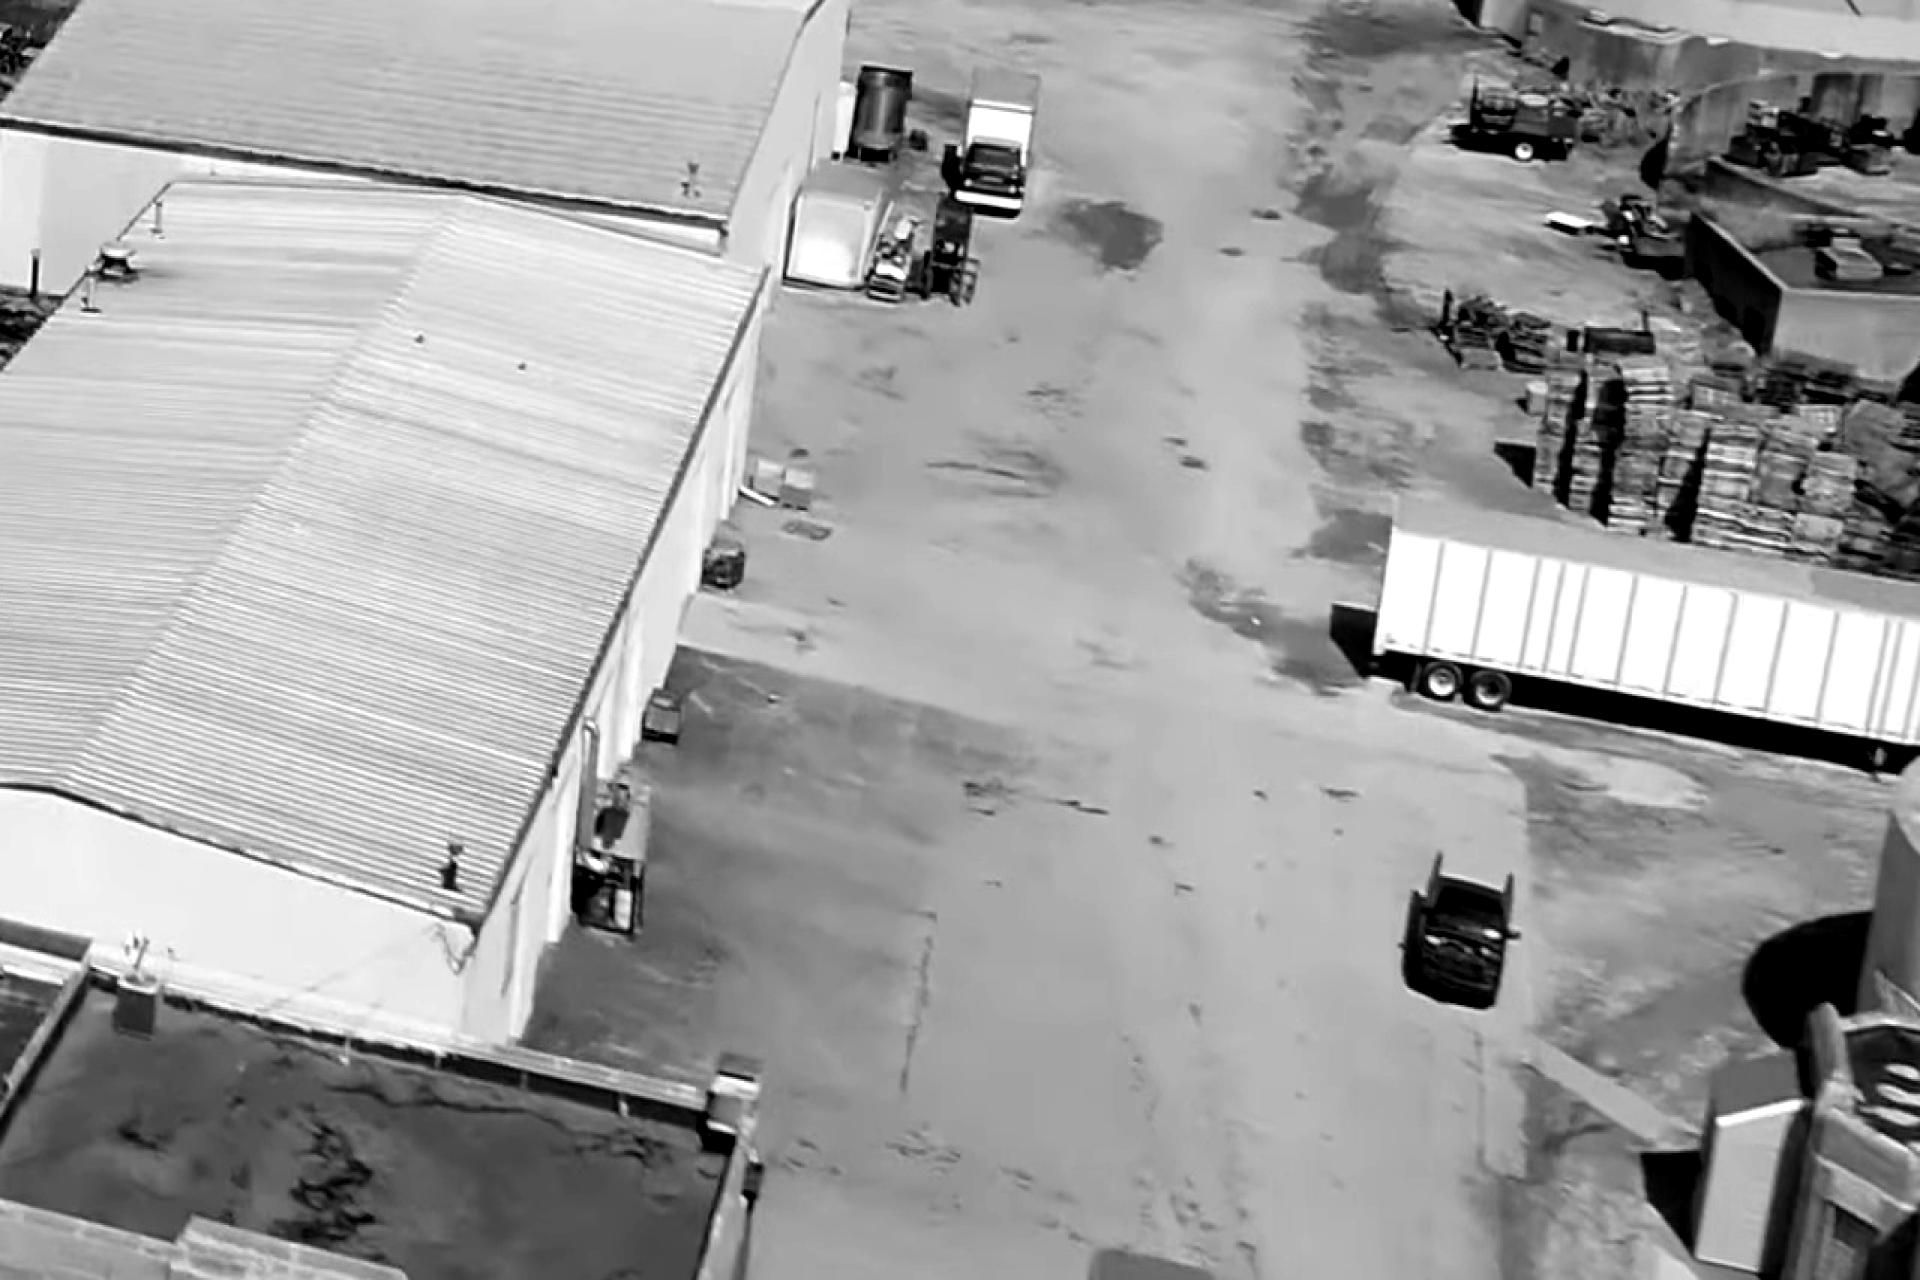House: (0, 129, 779, 1029), (0, 804, 769, 1280), (0, 0, 871, 283), (0, 191, 66, 620)
